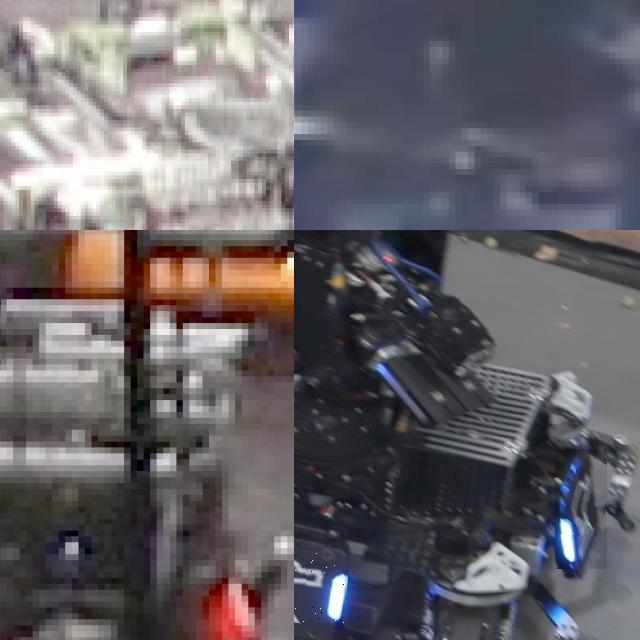Bs: (555, 449, 607, 569), (294, 543, 347, 622)
